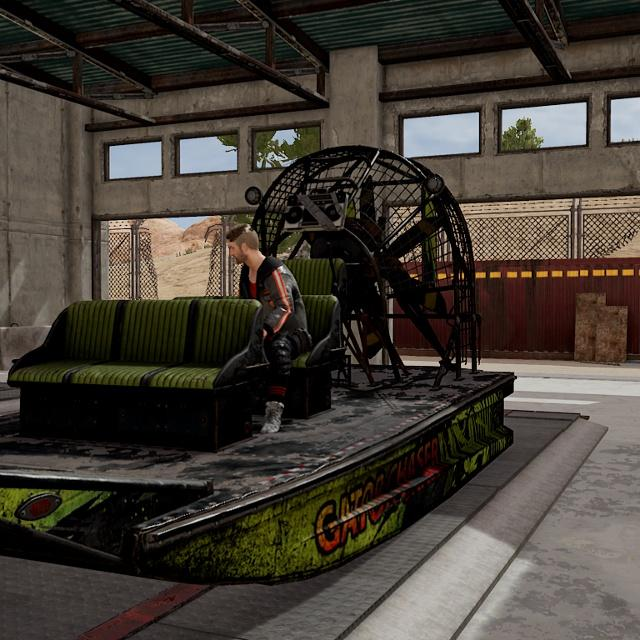head: (225, 222, 262, 265)
people: (224, 222, 311, 436)
